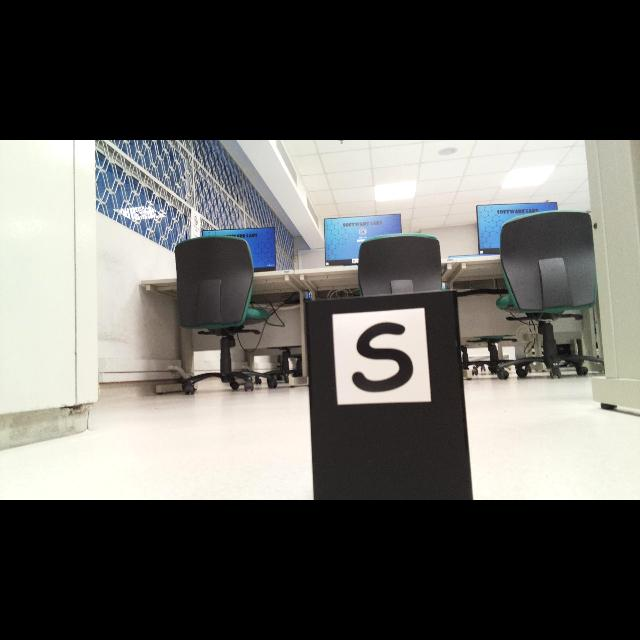S: (351, 323, 414, 393)
